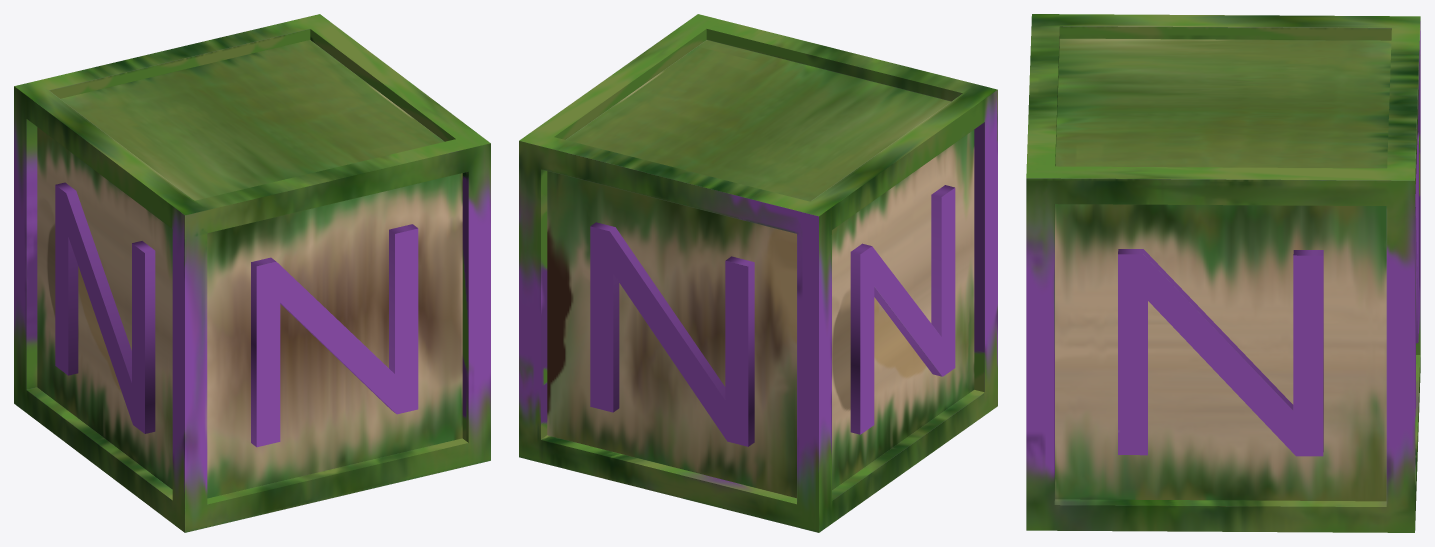
3 views of the same model, side by side, from view 1: azimuth 30°, elevation 25°; view 2: azimuth 150°, elevation 25°; view 3: azimuth 270°, elevation 25° (orthographic). The views are drawn at different scales.
Parts seen in each view (by area): view 1: Cube.020; view 2: Cube.020; view 3: Cube.020.
Boxes of the visible parts, x1,y1,x2,y2 form: Cube.020: [14, 14, 490, 532]; Cube.020: [519, 14, 997, 532]; Cube.020: [1026, 14, 1420, 532].
Bounding box in the file's own units: 74.61 × 73.57 × 74.61.
Materials: 1 (1 with a texture image).
